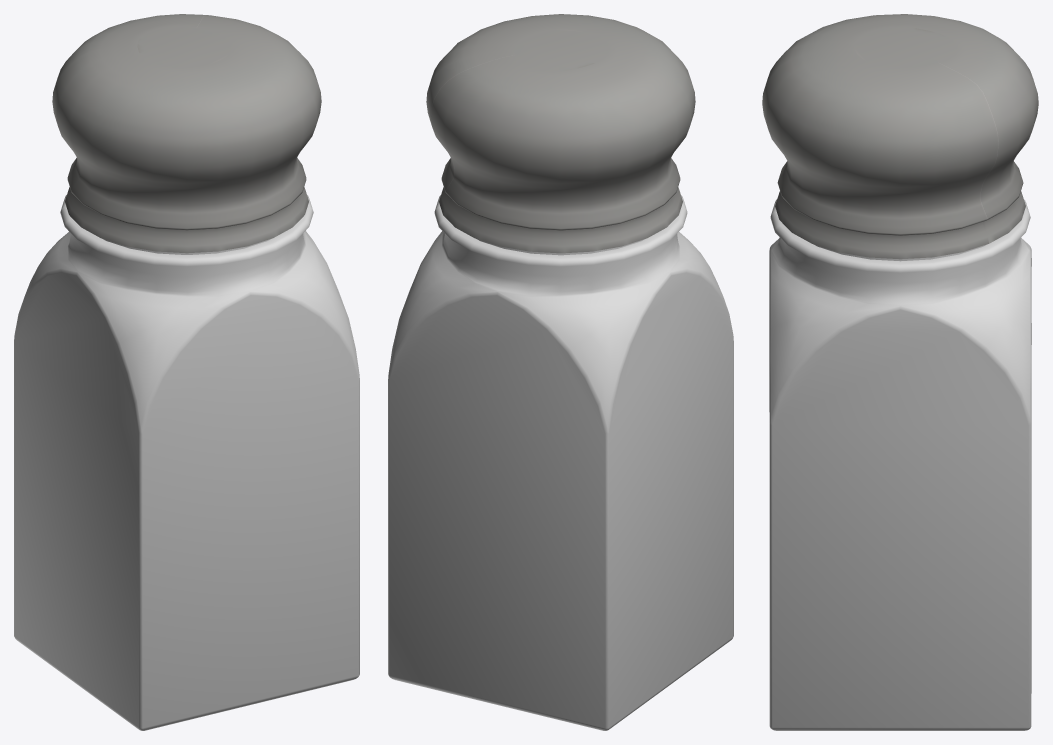
Rendered from Salt.glb.
The picture shows the model from 3 angles, left to right: view 1: azimuth 30°, elevation 25°; view 2: azimuth 150°, elevation 25°; view 3: azimuth 270°, elevation 25°; orthographic projection. The views are drawn at different scales.
Parts seen in each view (by area): view 1: Salt.001, Salt; view 2: Salt.001, Salt; view 3: Salt.001, Salt.
Part boxes in pixels (<box>): Salt.001: <box>14,195,359,730</box>; Salt: <box>52,14,321,253</box>; Salt.001: <box>388,195,733,730</box>; Salt: <box>426,14,695,253</box>; Salt.001: <box>769,199,1031,730</box>; Salt: <box>762,14,1038,259</box>.
Size of the model in its own units: 0.049 by 0.123 by 0.0489.
Materials: 2 (1 with a texture image).
